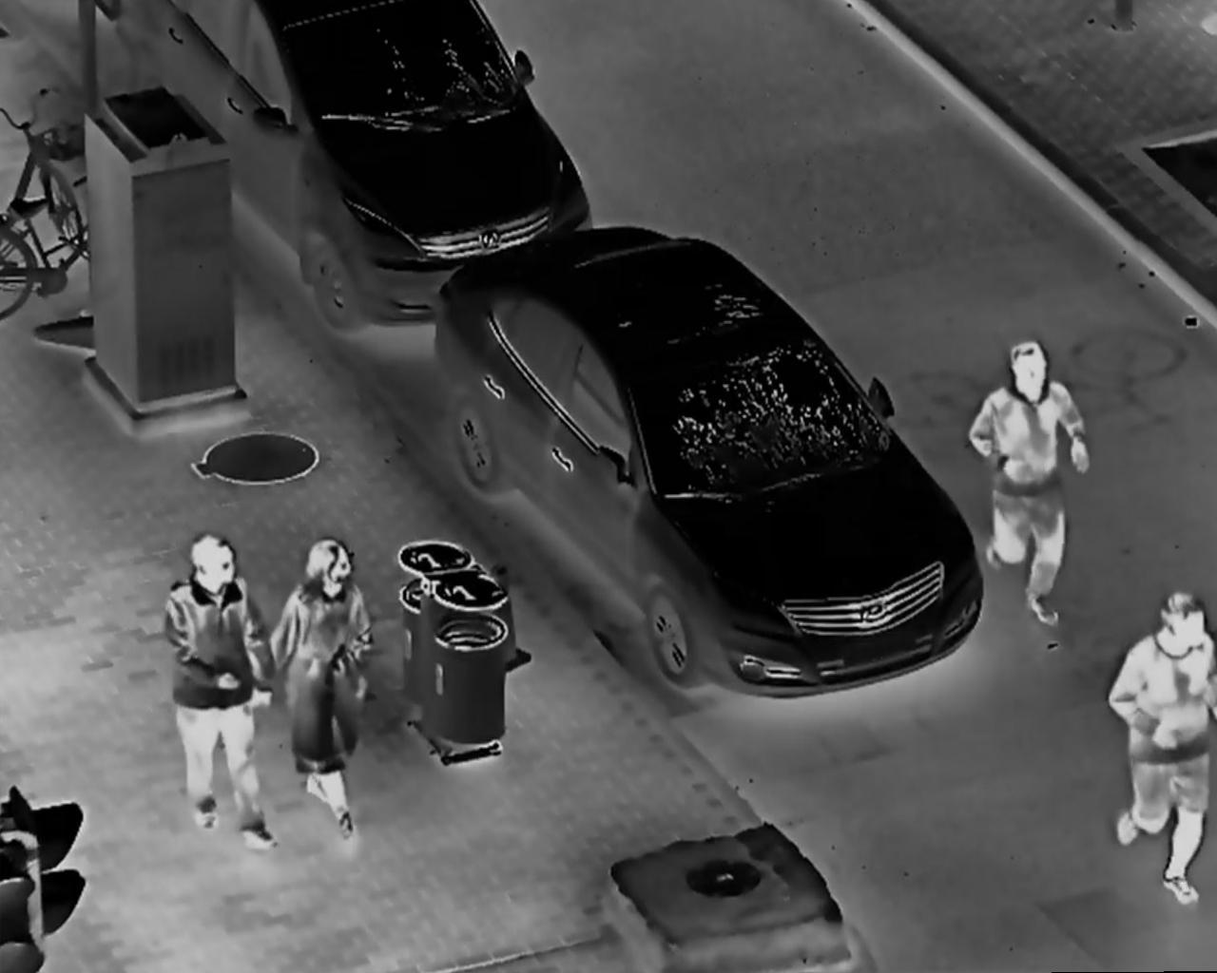person: (156, 531, 281, 851), (963, 340, 1093, 626), (1108, 591, 1217, 907), (269, 537, 378, 843)
